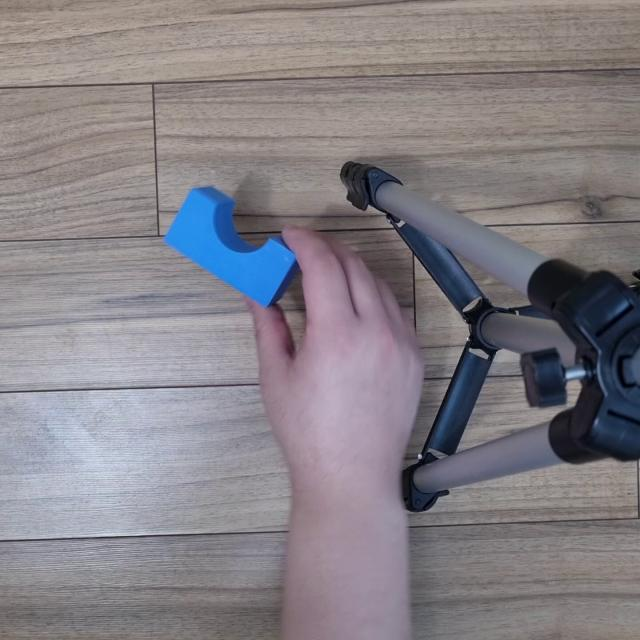block: (158, 178, 300, 316)
hand: (250, 213, 443, 489)
